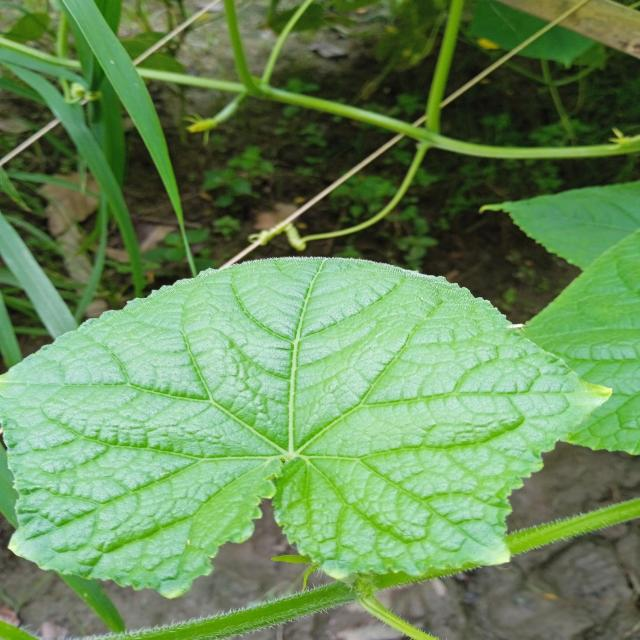cucumber_healthy: (0, 250, 614, 602), (495, 219, 640, 460), (475, 177, 640, 272)
